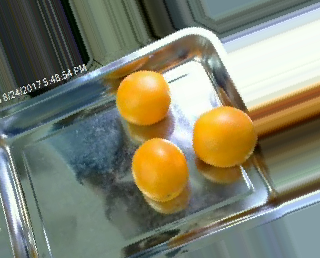Orange: (191, 106, 256, 168), (130, 136, 188, 203), (116, 71, 172, 125)
